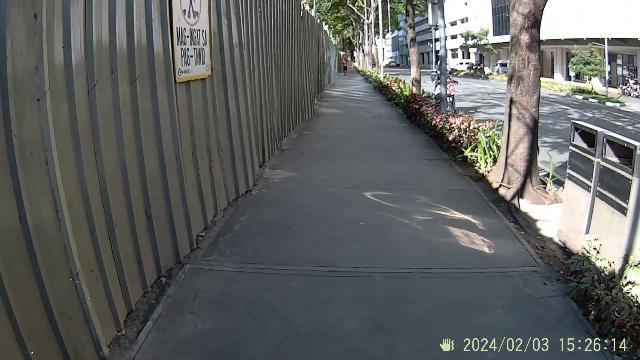garbage: (560, 116, 640, 272)
tree: (502, 0, 544, 202), (402, 1, 422, 94)
